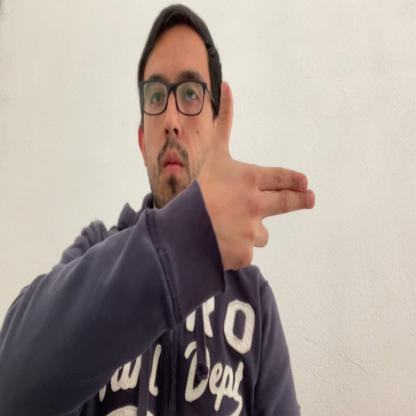H: (209, 78, 317, 271)
